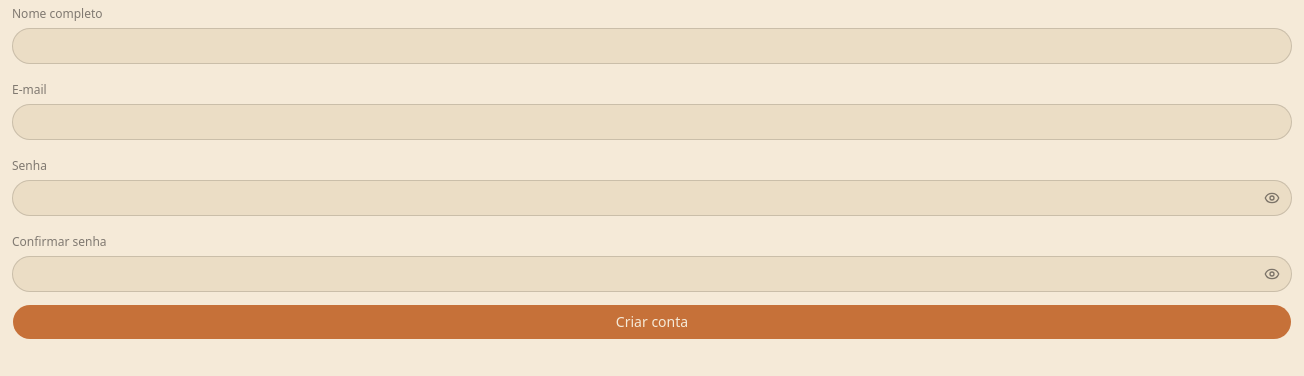
Test: RegisterForm › blocks a weak password and lists the missing criteria
This screenshot has width=1304, height=376.
Type "Ana Souza" into the field labelled "Nome completo".
click(652, 46); type("Ana Souza")  # box [12,28,1292,64]
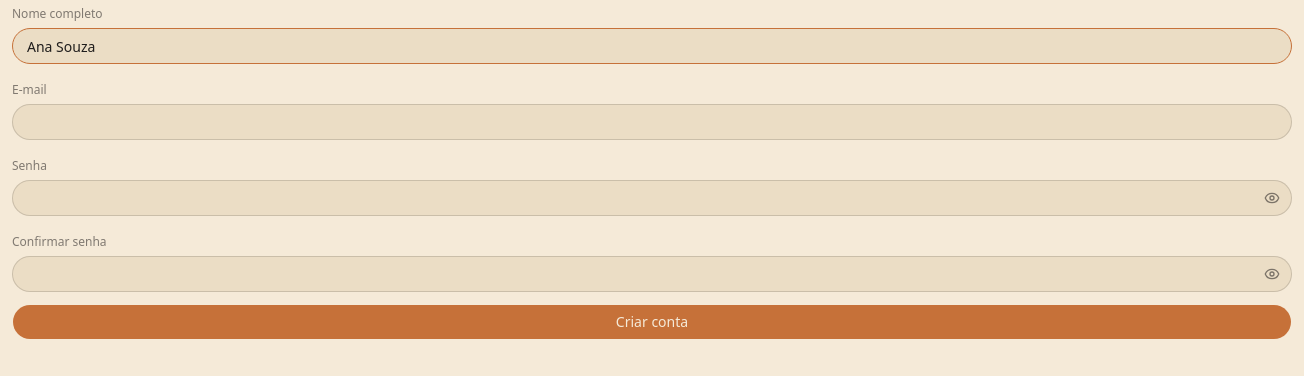
Type "ana@test.com" into the field labelled "E-mail".
click(652, 122); type("ana@test.com")  # box [12,104,1292,140]
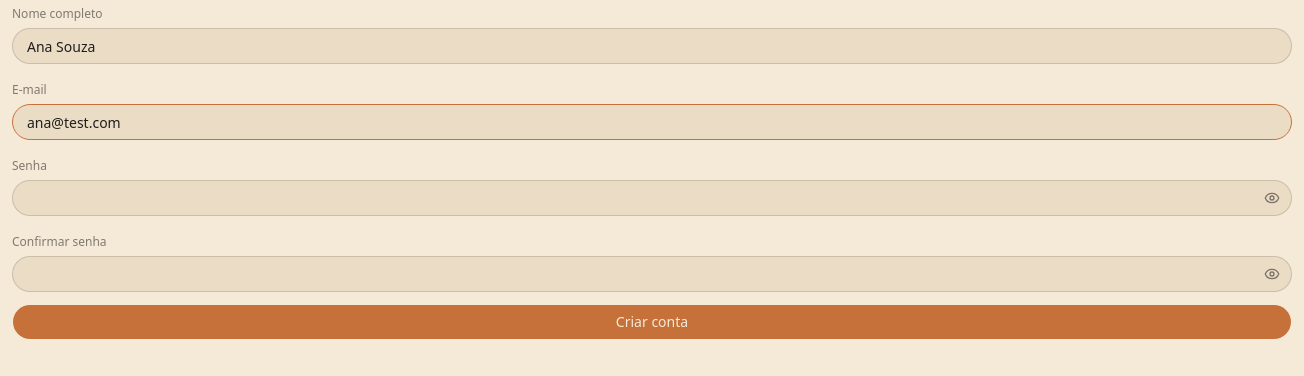
Type "senhasenha" into the password field labelled "Senha".
click(652, 198); type("senhasenha")  # box [12,180,1292,216]
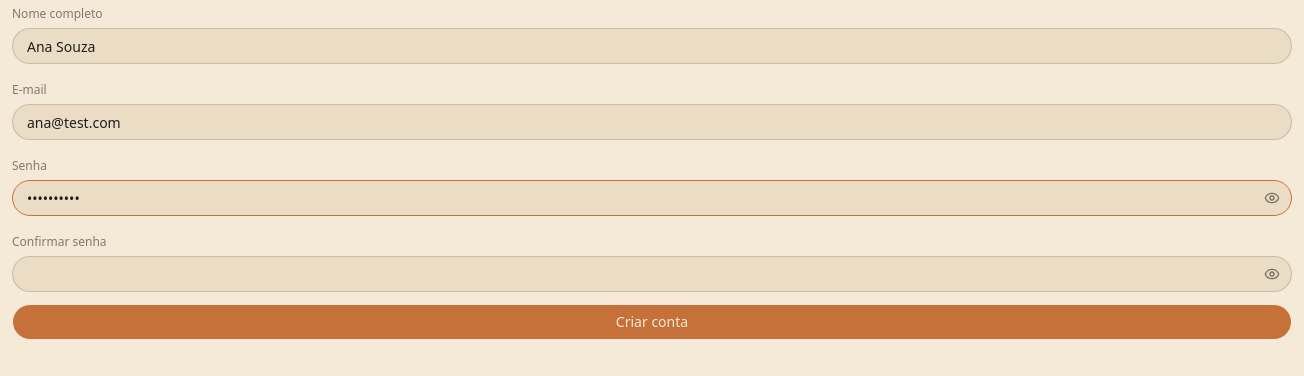
Type "senhasenha" into the password field labelled "Confirmar senha".
click(652, 274); type("senhasenha")  # box [12,256,1292,292]
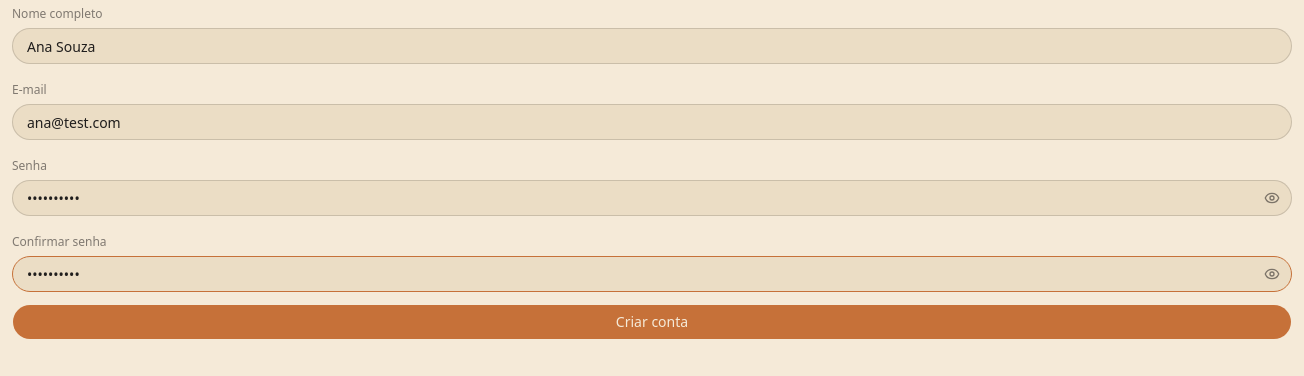
Click the button "Criar conta".
click(652, 322)  # box [12,304,1292,340]
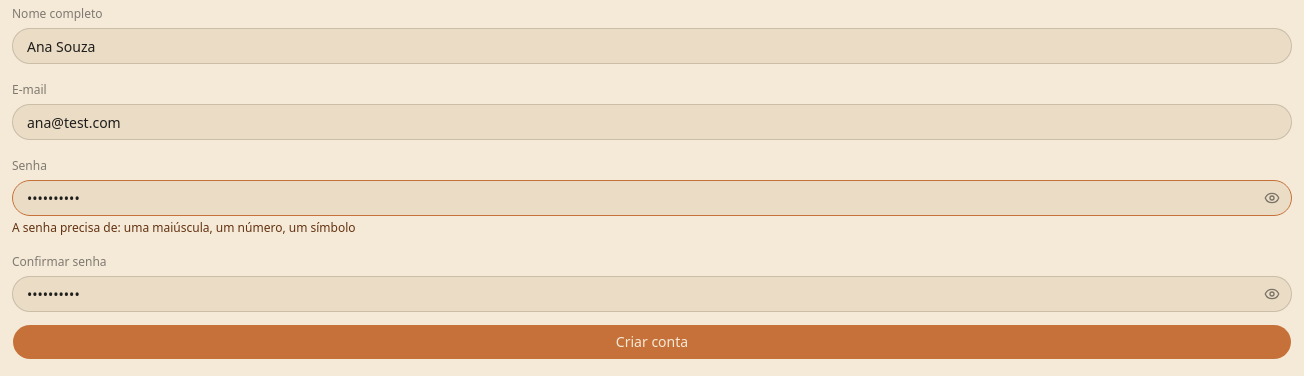
Expected: the text "A senha precisa de: uma maiúscula, um número, um símbolo" is shown, [12,219,356,236]
